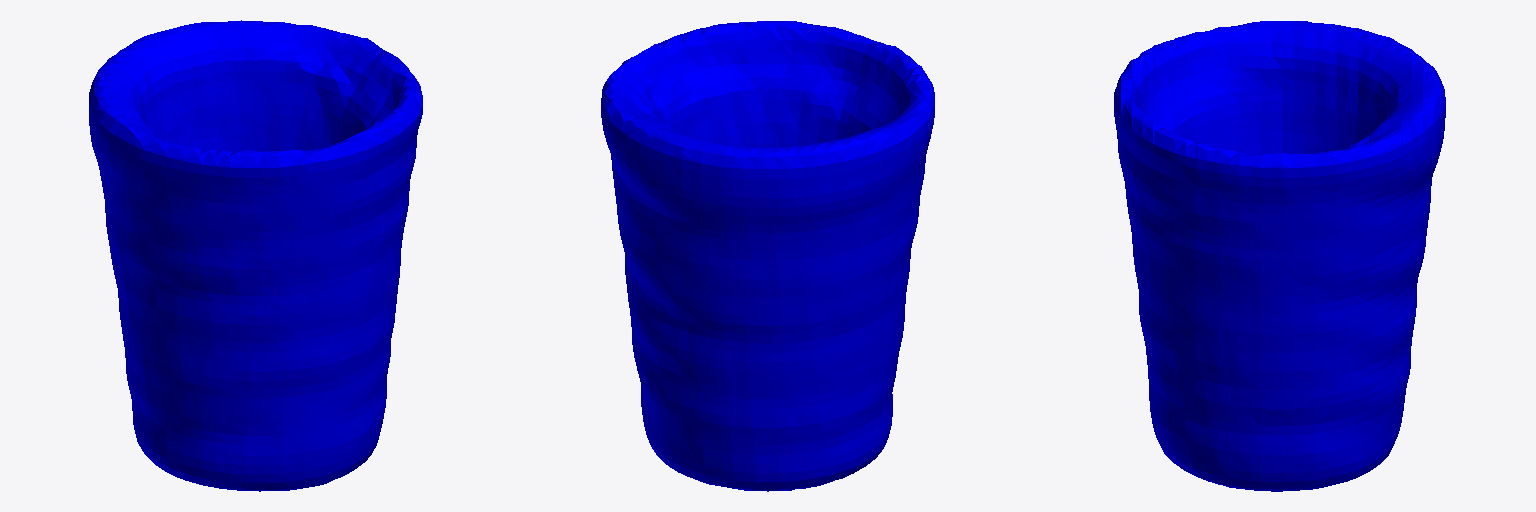
URDF robot description (bluecup.urdf):
<?xml version="0.0" ?>
<robot name="bluecup.urdf">
  <link name="baseLink">
    <contact>
      <friction_anchor/>
      <lateral_friction value="1.0"/>
    </contact>
    <inertial>
      <origin rpy="0 0 0" xyz="0 0 0"/>
       <mass value="1.0"/>
       <inertia ixx="1" ixy="0" ixz="0" iyy="1" iyz="0" izz="1"/>
    </inertial>
    <visual>
      <origin rpy="3.14 0 0" xyz="0 0 0"/>
      <geometry>
        <mesh filename="bluecup.obj" scale="1 1 1"/>
      </geometry>
       <material name="blue">
        <color rgba="0 0 1 1"/>
      </material>
    </visual>
    <collision>
      <origin rpy="3.14 0 0" xyz="0 0 0"/>
      <geometry>
        <mesh filename="bluecup.obj" scale="1 1 1"/>
      </geometry>
    </collision>
  </link>
</robot>

--- What the picture shows (computed from the rendered views, not written in the file) ---
The picture shows the robot from 3 angles, left to right: view 1: azimuth 30°, elevation 25°; view 2: azimuth 150°, elevation 25°; view 3: azimuth 270°, elevation 25°; orthographic projection.
Robot: bluecup.urdf — 1 links, 0 joints (none); root link baseLink; default pose: all joints at 0.
Visible links, largest first — view 1: baseLink; view 2: baseLink; view 3: baseLink.
Link boxes in pixels (box(x1,y1,x2,y2)): baseLink: box(89, 20, 422, 491); baseLink: box(601, 21, 934, 491); baseLink: box(1114, 21, 1445, 491).
Size in the robot's own frame: 0.0854 by 0.0848 by 0.1027 metres.
Meshes: 1 distinct files referenced, 1 mesh visuals loaded (1 OBJ).